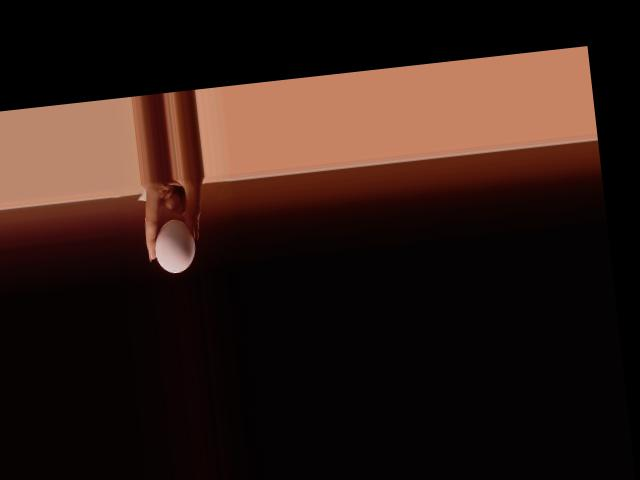egg: (151, 216, 198, 275)
